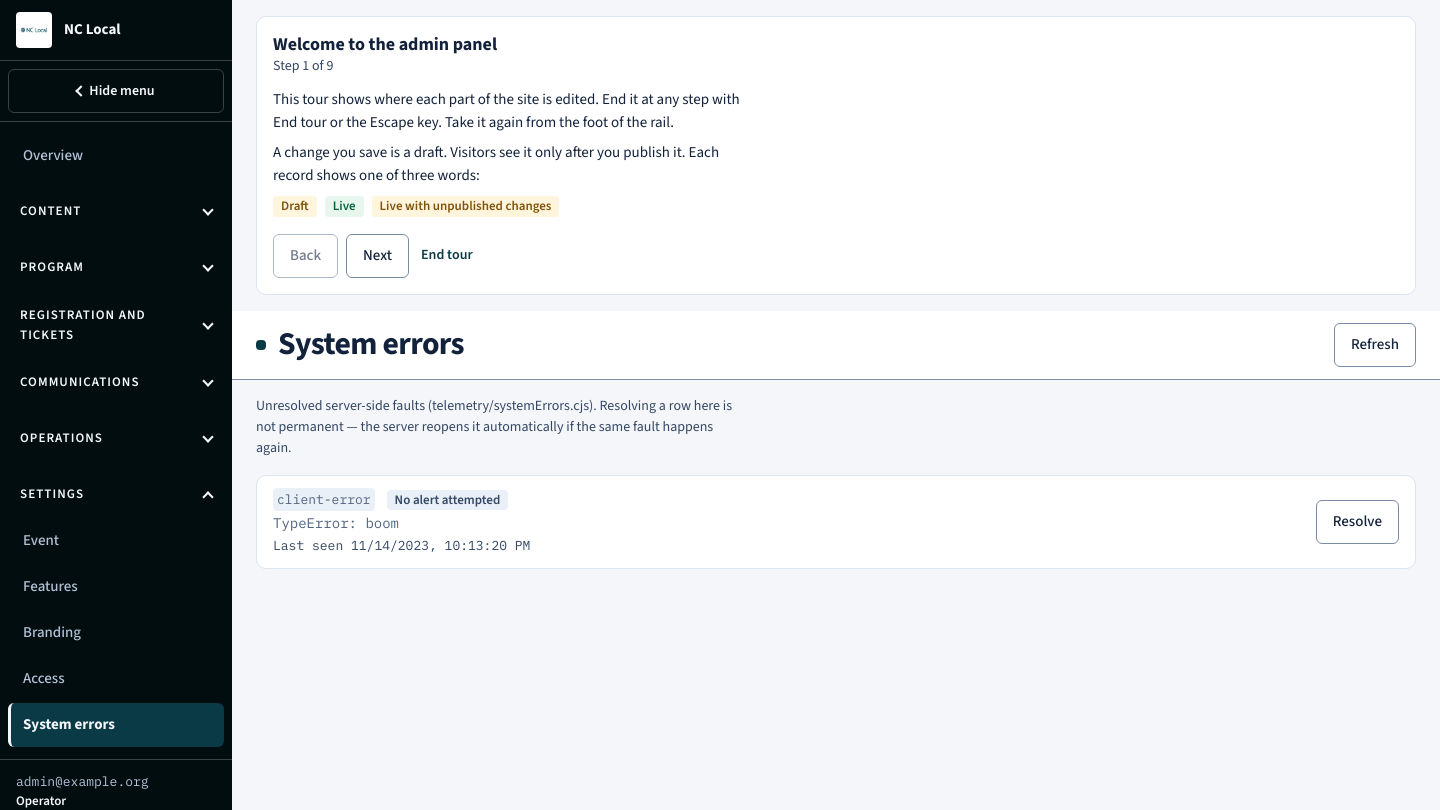
resolving a row › reloads to an empty state when the server confirms nothing unresolved remains
Check: the text "TypeError: boom" is shown, box x1=273 y1=514 x2=399 y2=532
Click the button "Resolve". click: (1357,522)
box: x1=1316 y1=500 x2=1399 y2=544
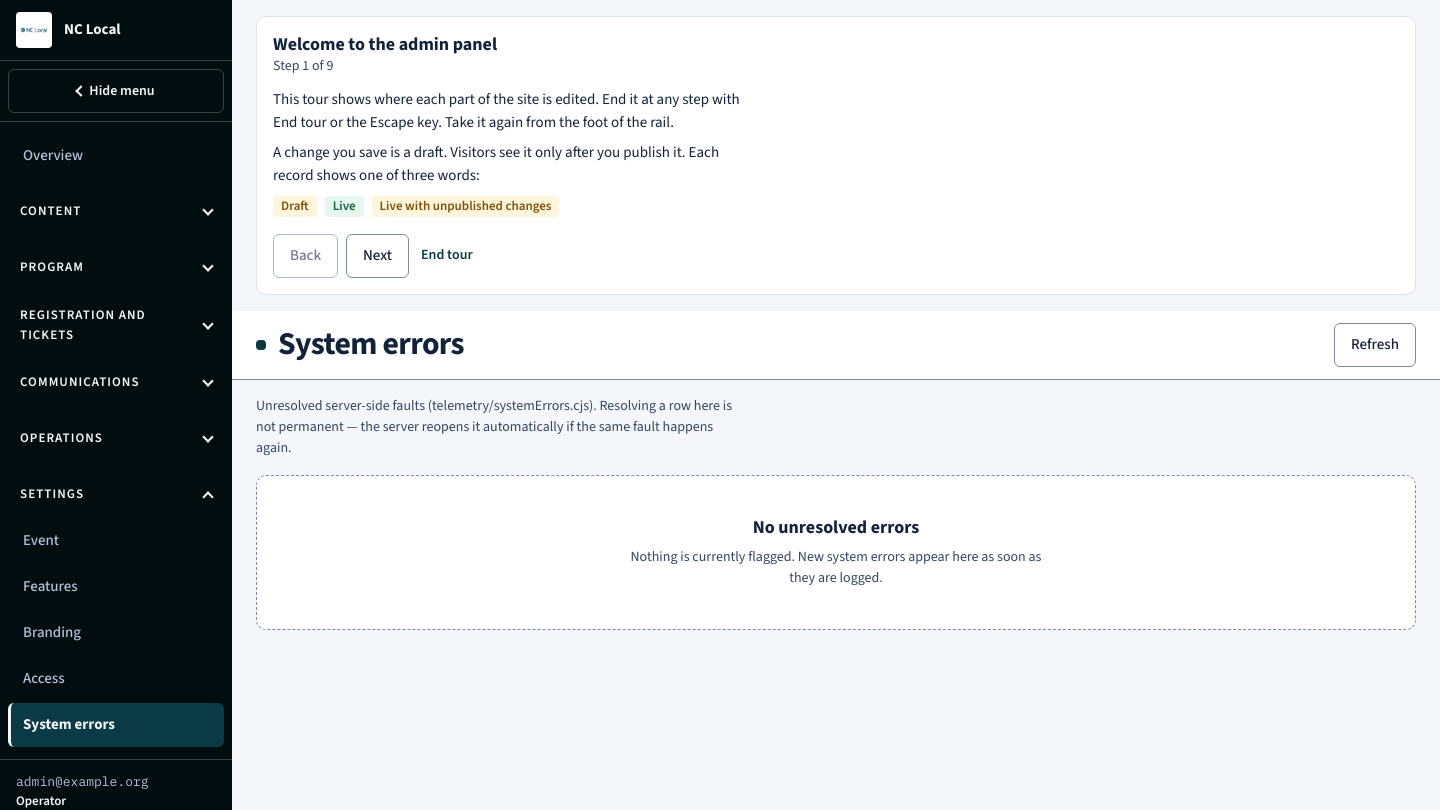
Check: the heading "No unresolved errors" is shown, box x1=753 y1=516 x2=919 y2=539
